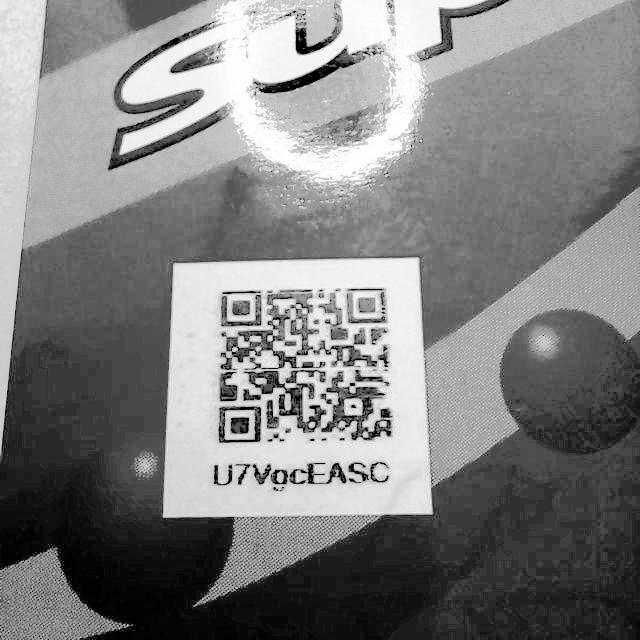qr_code: (208, 277, 405, 454)
